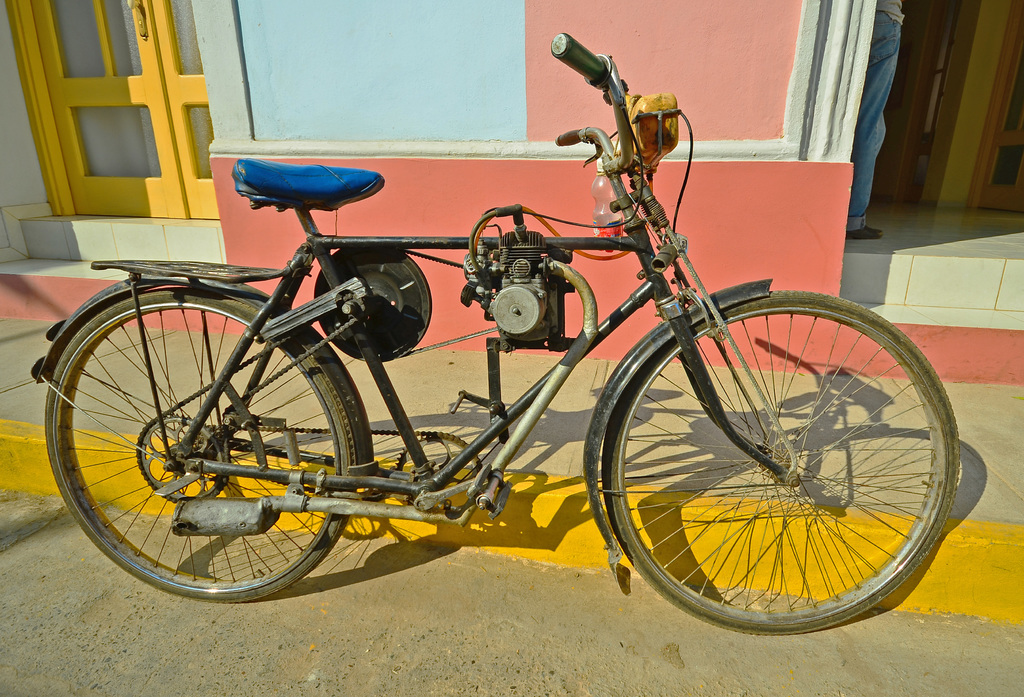Bike: (57, 64, 961, 634)
